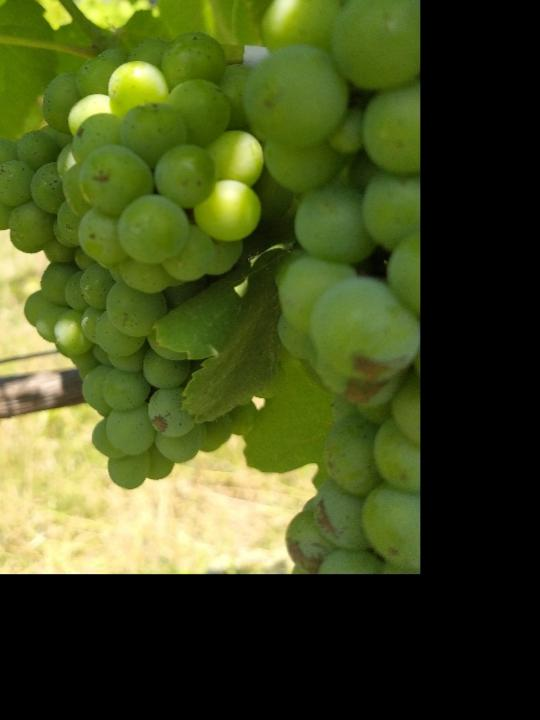grape: (0, 31, 254, 492)
